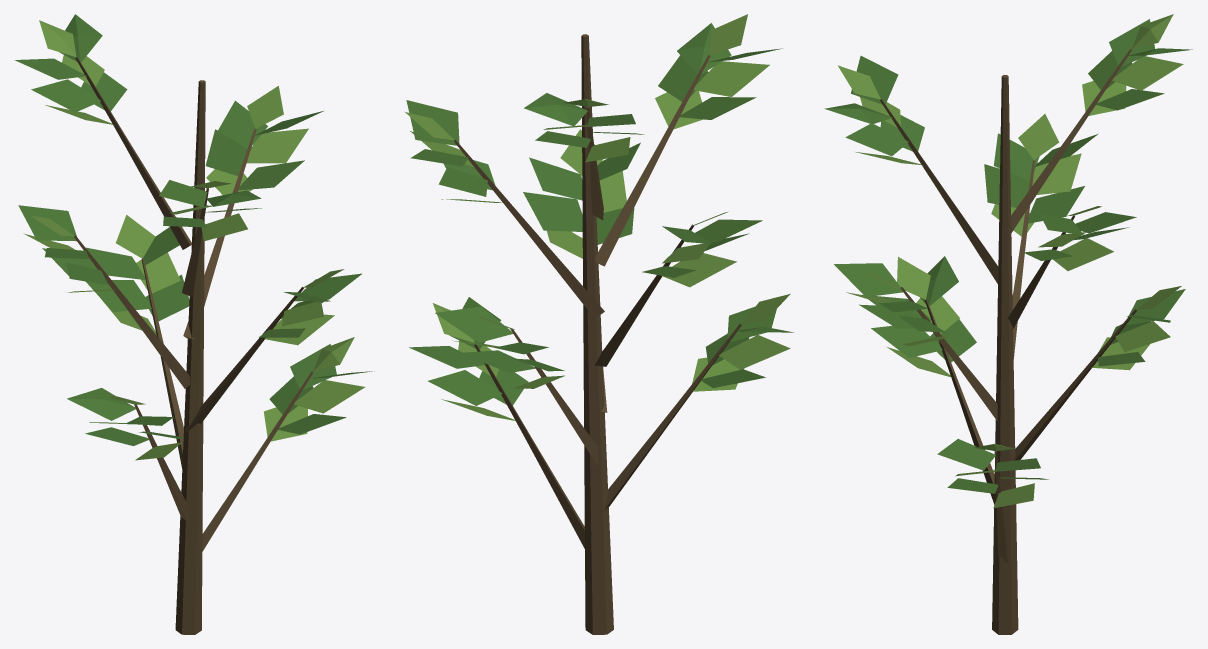
The model's file is sapling_lod1.gltf.
3 renders of one model, left to right at view 1: azimuth 30°, elevation 25°; view 2: azimuth 150°, elevation 25°; view 3: azimuth 270°, elevation 25°, orthographic. The views are drawn at different scales.
Parts seen in each view (by area): view 1: sapling_original_lod1; view 2: sapling_original_lod1; view 3: sapling_original_lod1.
Part boxes in pixels (x1=…): sapling_original_lod1: x1=14, y1=14, x2=374, y2=634; sapling_original_lod1: x1=405, y1=14, x2=793, y2=634; sapling_original_lod1: x1=824, y1=14, x2=1192, y2=634.
Bounding box in the file's own units: 0.95 × 1.65 × 0.95.
